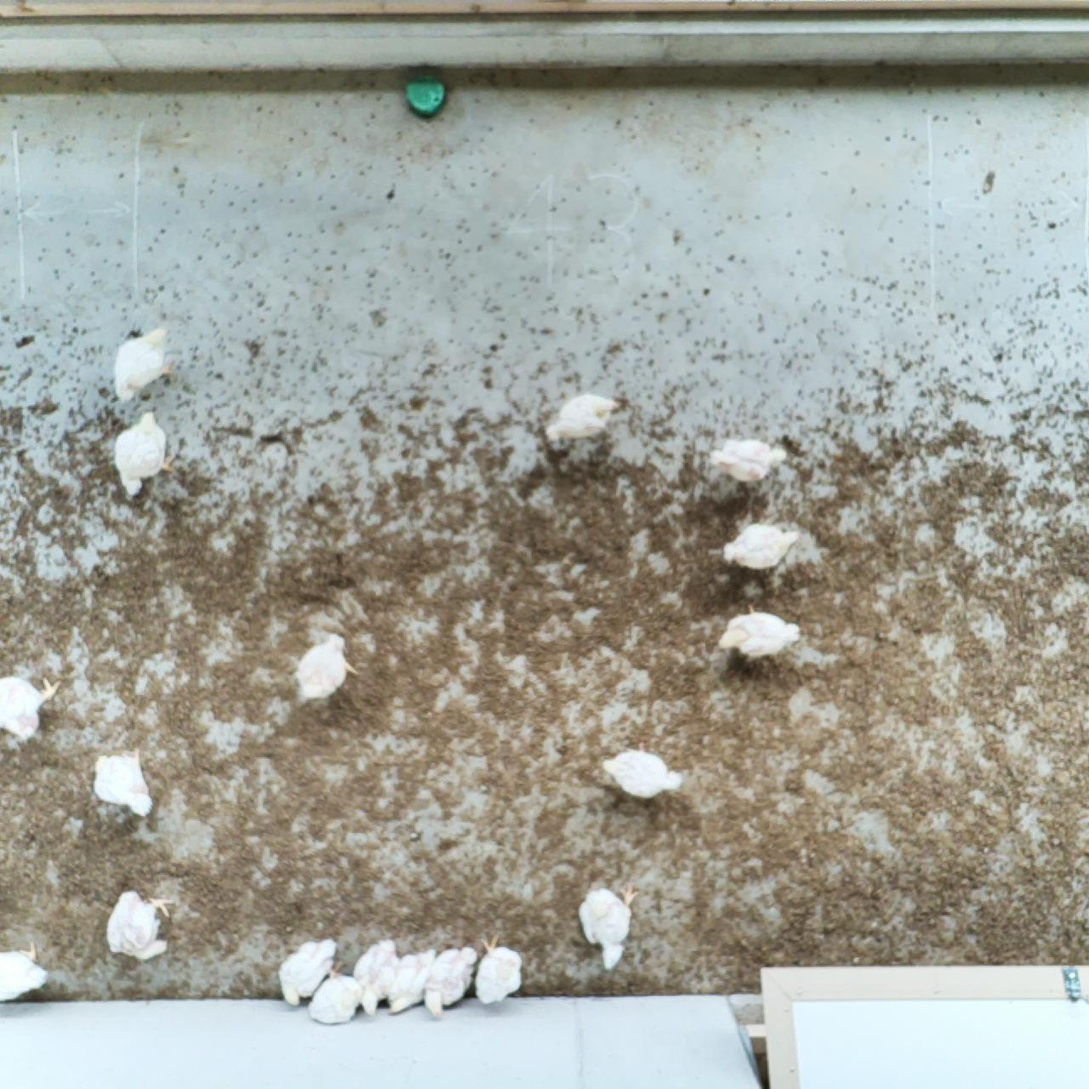chicken: (113, 405, 182, 503), (576, 880, 646, 975), (717, 596, 805, 668), (101, 888, 177, 965), (598, 736, 686, 801), (110, 322, 174, 407), (542, 390, 629, 450), (0, 667, 65, 747), (87, 744, 155, 819), (276, 937, 342, 1012), (705, 432, 795, 485), (472, 927, 529, 1010), (418, 944, 478, 1022), (296, 629, 358, 704), (350, 934, 402, 1022), (384, 944, 442, 1019), (721, 518, 800, 573), (306, 967, 359, 1031), (0, 938, 50, 1004)
